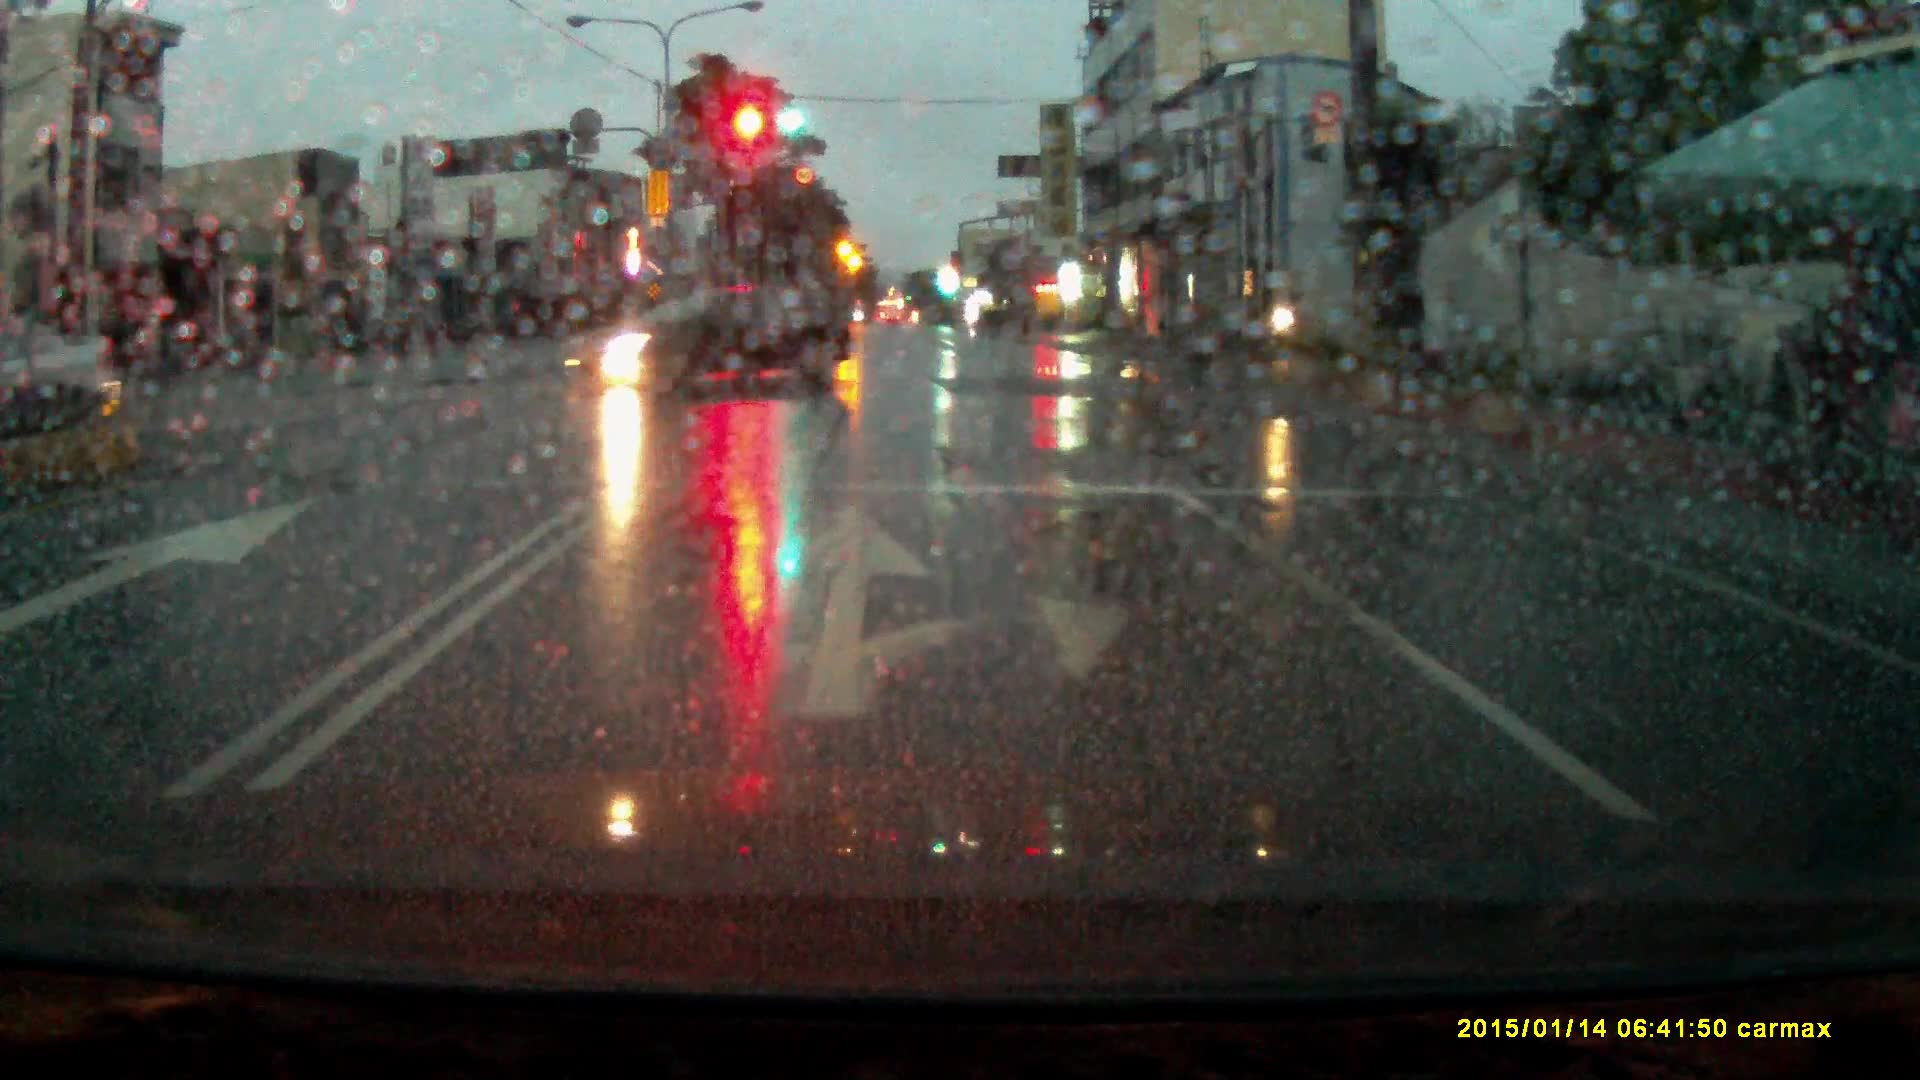rider: (1258, 279, 1316, 364)
vehicle: (557, 289, 856, 395)
